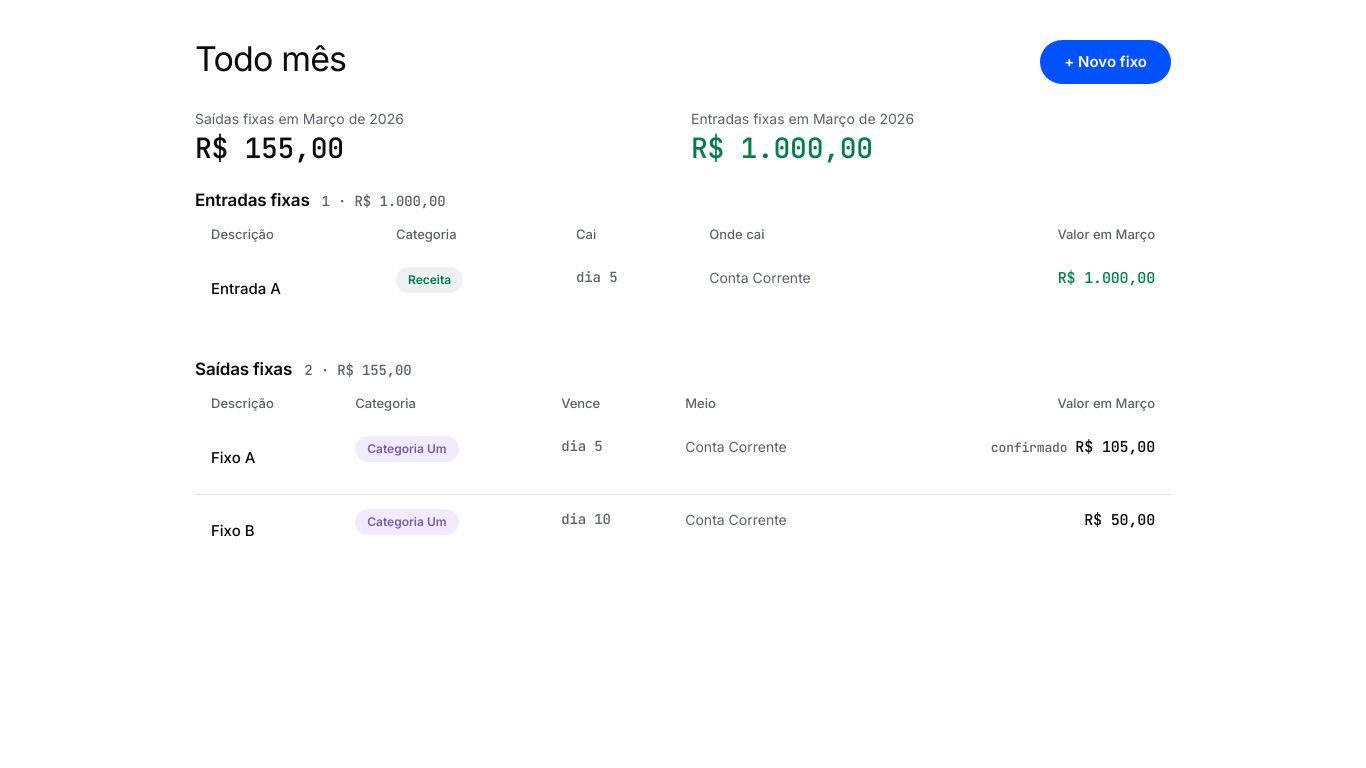
Test case: abrir um fixo e o endereço (FIXCOL-09, ACs 1 a 3; FIXCOL-08, AC 2) › abrir a linha mostra o fixo no painel, marca a linha e leva o foco ao título
What coordinates should you click on to do the following:
click the button "Fixo B"
I would click on:
 (233, 531)
Its box is [211,509,255,553].
(page scrolled)
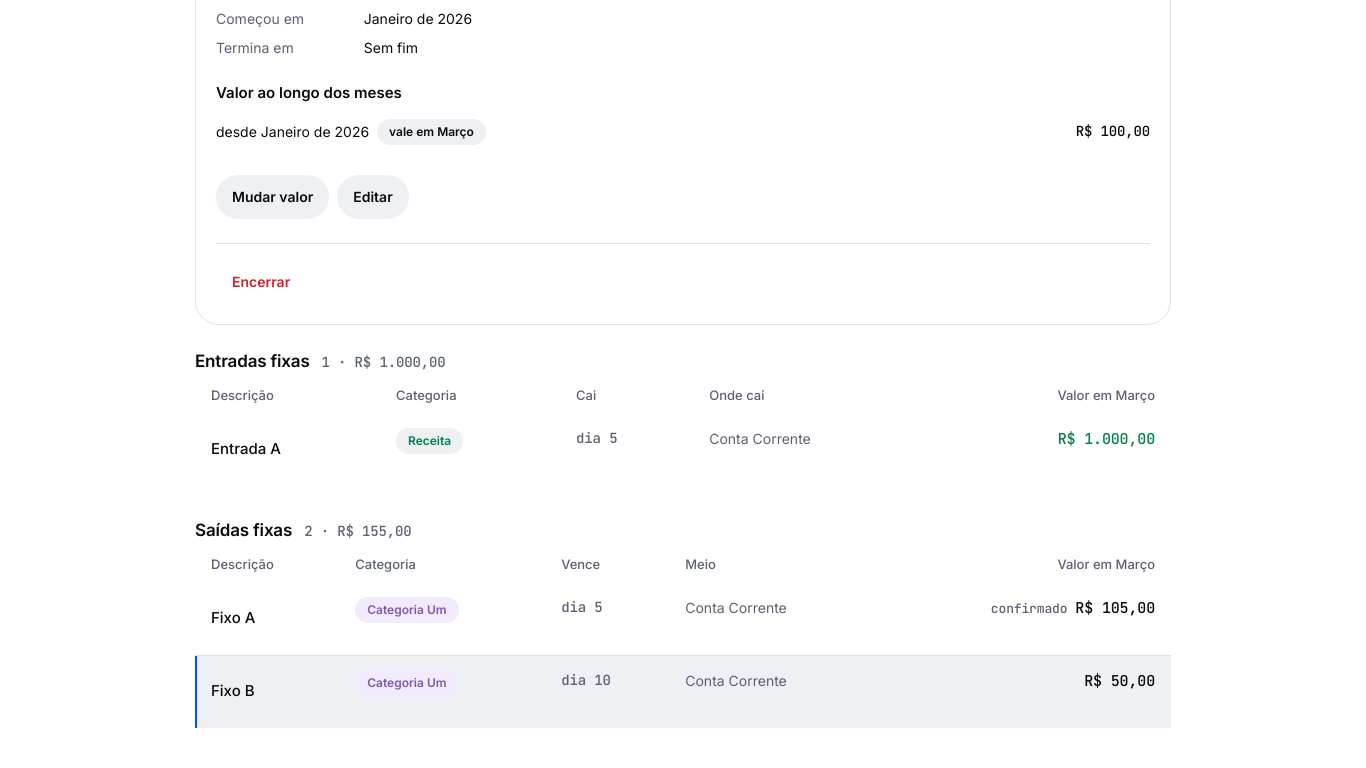
Check: the button "Fixo B" is expanded, box [211,670,255,714]
